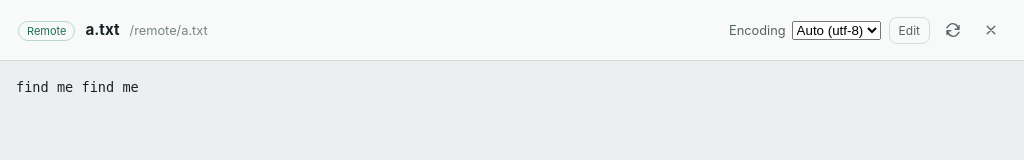
it: PreviewWindow › Ctrl+F / Cmd+F で検索バーを開き入力へ focus する
Expected: the text named "File contents" is shown, [16,79,139,95]
Press f
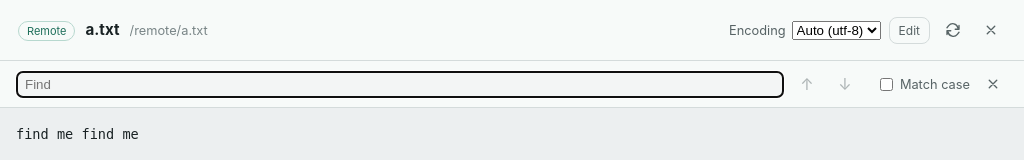
一度閉じて Cmd+F でも開く。
Click the button named "Close search": (993, 84) [978,69,1008,99]
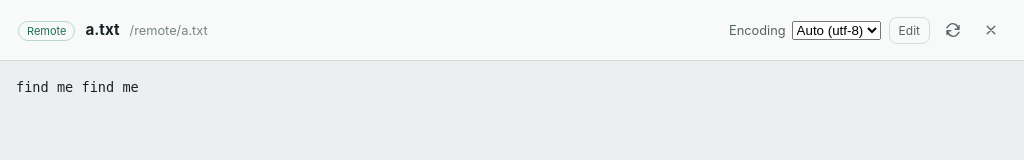
Press f
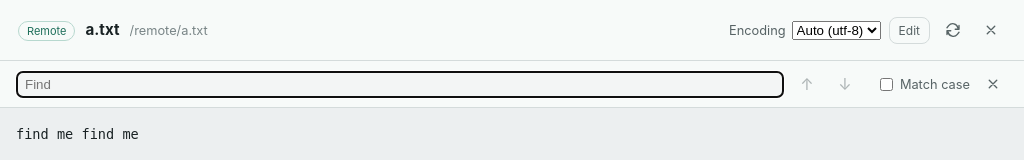
Expected: the search field labelled "Find" is shown, [16,70,784,98]
